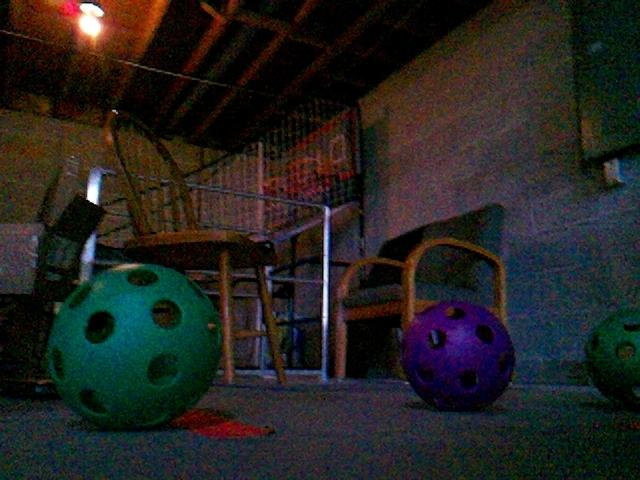Green: (44, 263, 221, 428), (583, 308, 639, 410)
Purple: (398, 300, 514, 411)
